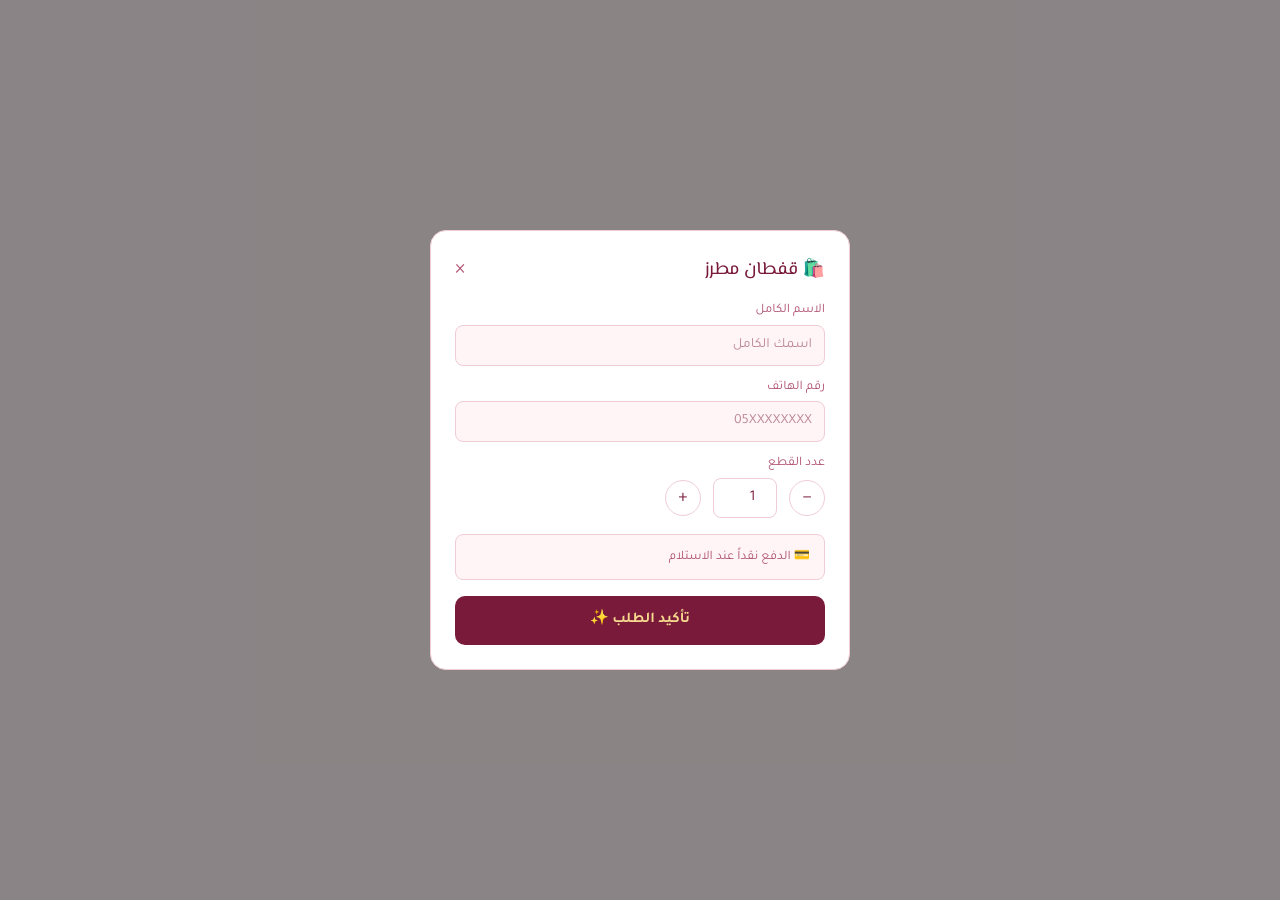
Scenario: OrderModal › shows validation error when submitting empty name
What coordinates should you click on to do the following:
click the button "تأكيد الطلب ✨"
I would click on:
 (640, 621)
Its box is [455,596,825,645].
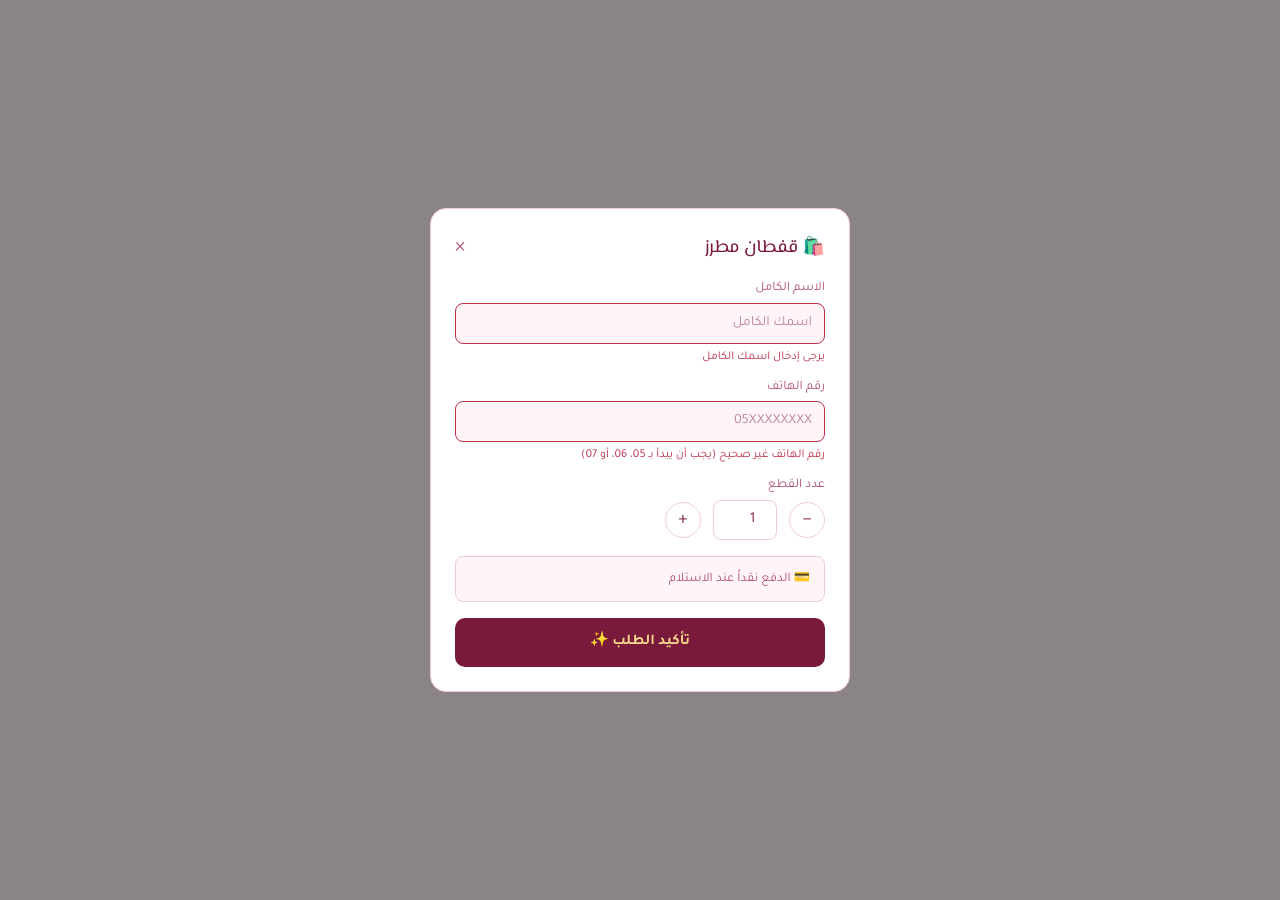
Check: the text "يرجى إدخال اسمك الكامل" is shown, box [702,351,825,363]
